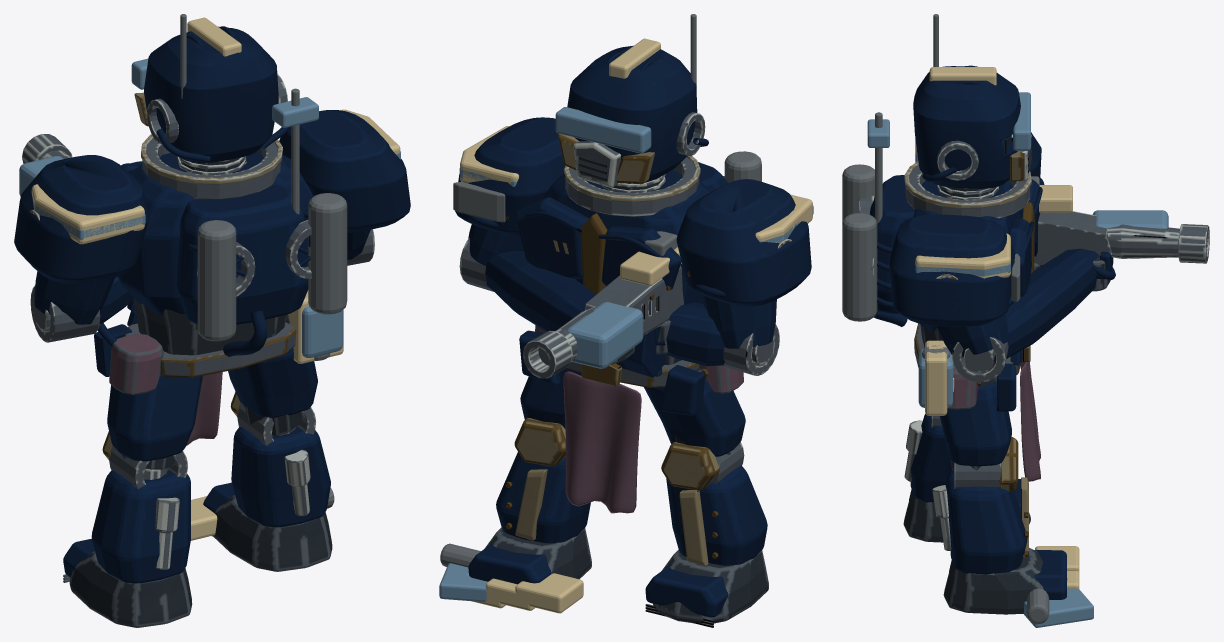
The model's file is legion_components.glb.
3 renders of one model, left to right at view 1: azimuth 30°, elevation 25°; view 2: azimuth 150°, elevation 25°; view 3: azimuth 270°, elevation 25°, orthographic. The views are drawn at different scales.
Visible parts, largest first — view 1: body_0, shoulders_0, torso_0, head_0, backpack_0, Coolant canister.001, Coolant canister, Shoulder reinforcement.003, Utility pouch, weapon_0, Bastion crown ridge, Comms transceiver (+5 smaller); view 2: body_0, torso_0, shoulders_0, head_0, weapon_0, Vented barrel guard, Bastion armored brow, Broken masonry.002, Shoulder raised rib, Fractured floor tile, Reinforced receiver rail, Shoulder reinforcement.002 (+6 smaller); view 3: body_0, torso_0, shoulders_0, head_0, weapon_0, Coolant canister, backpack_0, Signal tablet, Shoulder reinforcement.002, Fractured floor tile, Coolant canister.001, Vented barrel guard (+8 smaller).
Part boxes in pixels (x1,y1,x2,y2): body_0: (63, 302, 332, 627); shoulders_0: (14, 110, 410, 291); torso_0: (30, 134, 374, 342); head_0: (134, 26, 289, 162); backpack_0: (176, 183, 311, 356); Coolant canister.001: (197, 220, 236, 341); Coolant canister: (308, 193, 347, 314); Shoulder reinforcement.003: (31, 184, 144, 244); Utility pouch: (302, 306, 343, 357); weapon_0: (22, 134, 143, 346); Bastion crown ridge: (187, 17, 241, 56); Comms transceiver: (272, 97, 318, 127); body_0: (468, 216, 768, 627); torso_0: (459, 156, 779, 375); shoulders_0: (455, 117, 811, 328); head_0: (558, 45, 708, 187); weapon_0: (523, 247, 686, 378); Vented barrel guard: (567, 302, 643, 368); Bastion armored brow: (555, 107, 651, 153); Broken masonry.002: (515, 573, 583, 613); Shoulder raised rib: (453, 182, 505, 222); Fractured floor tile: (439, 563, 487, 601); Reinforced receiver rail: (620, 247, 681, 285); Shoulder reinforcement.002: (460, 126, 518, 184); body_0: (903, 205, 1067, 614); torso_0: (884, 161, 1115, 382); shoulders_0: (889, 132, 1044, 328); head_0: (913, 65, 1031, 188); weapon_0: (1038, 211, 1209, 265); Coolant canister: (842, 213, 877, 321); backpack_0: (859, 175, 923, 328); Signal tablet: (925, 340, 947, 415); Shoulder reinforcement.002: (915, 233, 1010, 278); Fractured floor tile: (1023, 588, 1093, 627); Coolant canister.001: (842, 164, 874, 222); Vented barrel guard: (1092, 210, 1168, 228).
Bounding box in the file's own units: 1.15 × 1.84 × 1.15.
Materials: 4 (1 with a texture image).
